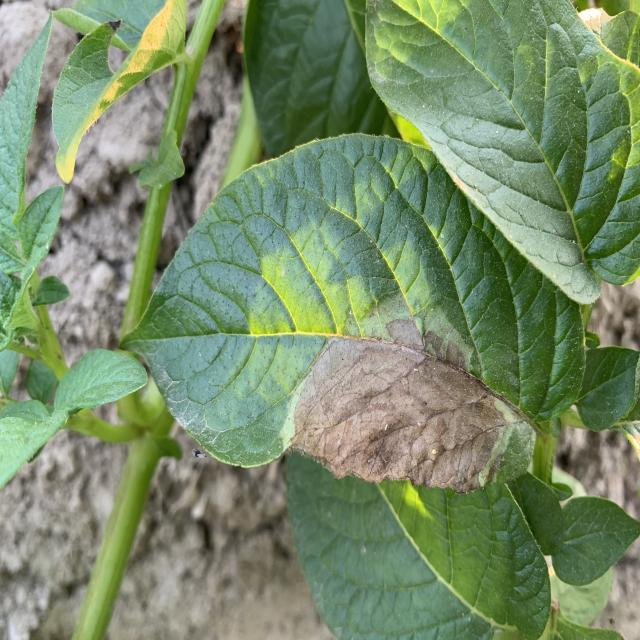lateblight: (290, 337, 535, 493), (364, 290, 482, 378)
